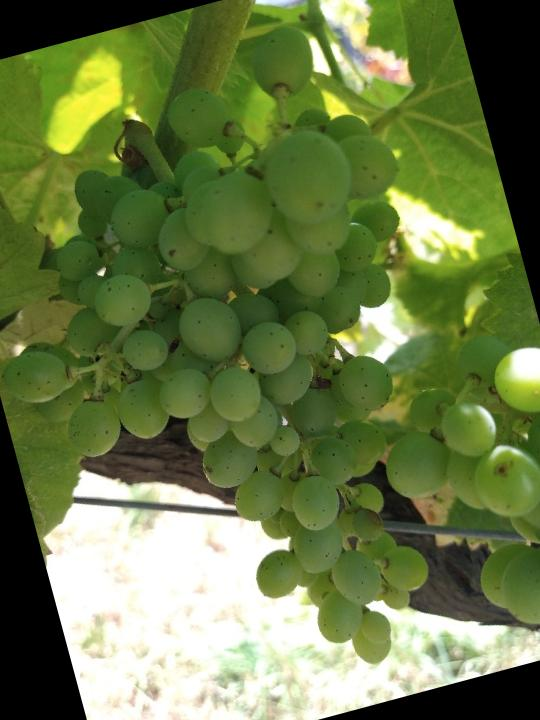grape: (0, 7, 523, 720)
